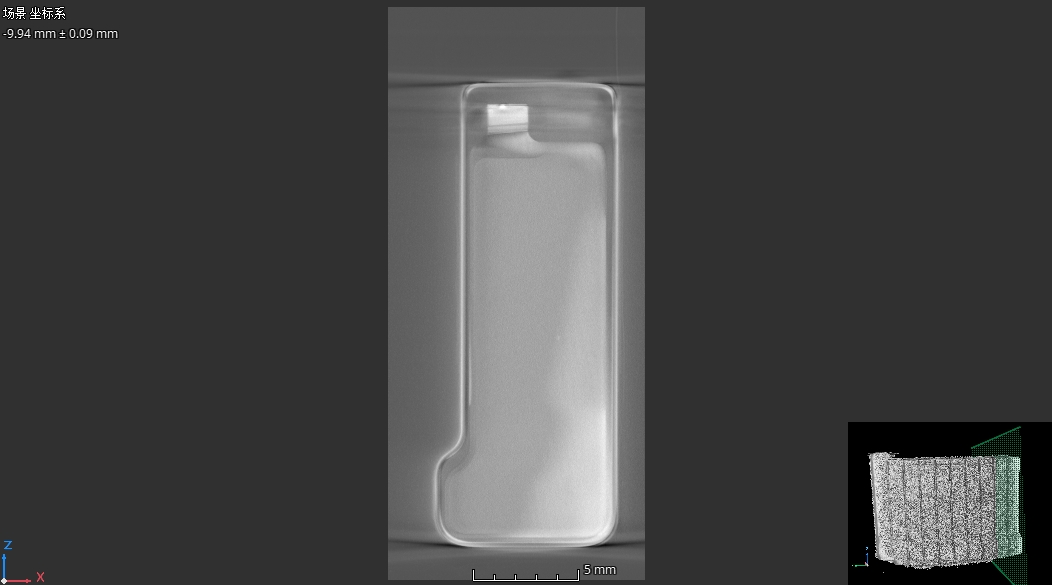light: (555, 333, 563, 345)
